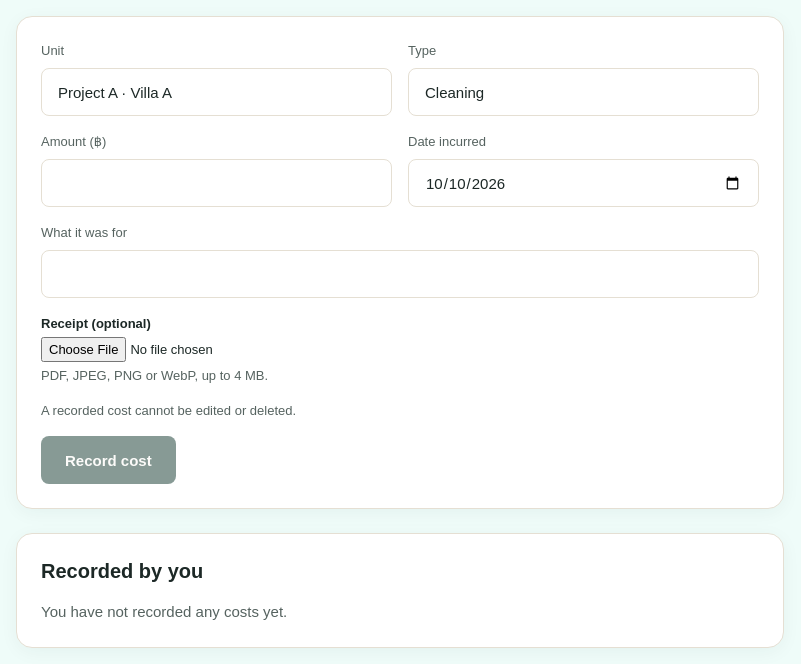
Test: RecordCostClient › does not promise inclusion for an already issued report
Type "1250.50" into the field labelled "Amount (฿)".
click(216, 183); type("1250.50")  # box [41,159,392,207]
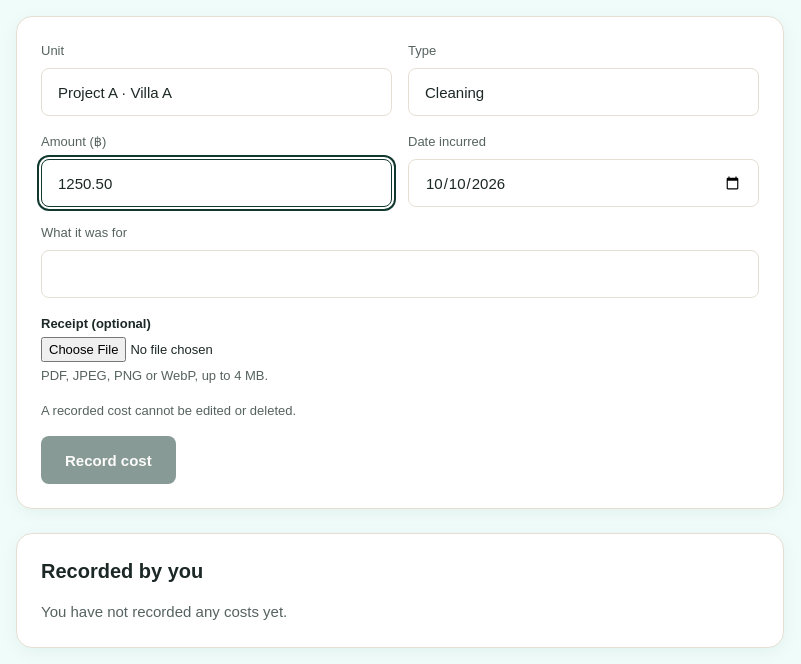
Type "Deep clean" into the field labelled "What it was for".
click(400, 274); type("Deep clean")  # box [41,250,759,298]
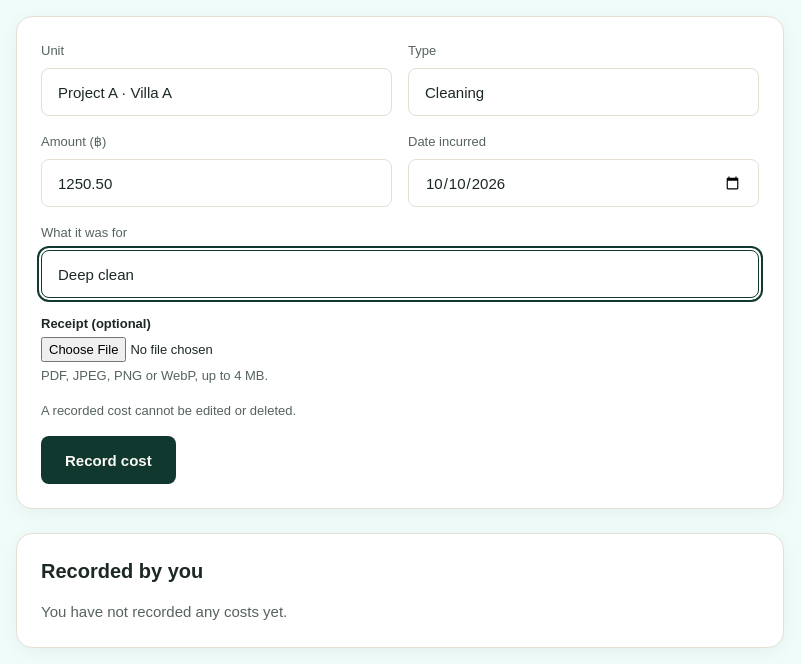
Click the button "Record cost".
click(108, 460)  # box [41,436,176,484]
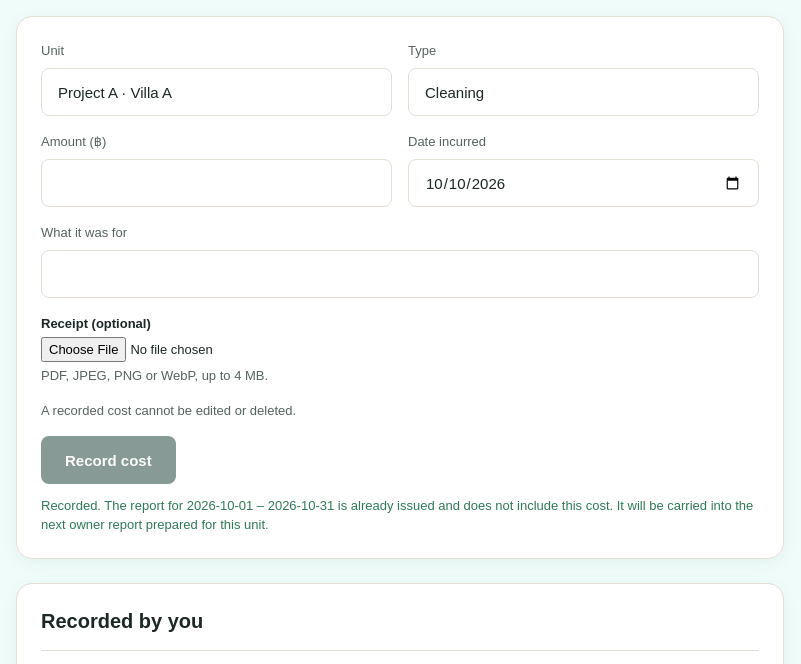
Expected: the message shows "carried into the next owner report", [41,498,753,532]
Expected: the message shows "2026-10-01 – 2026-10-31", [41,498,753,532]
